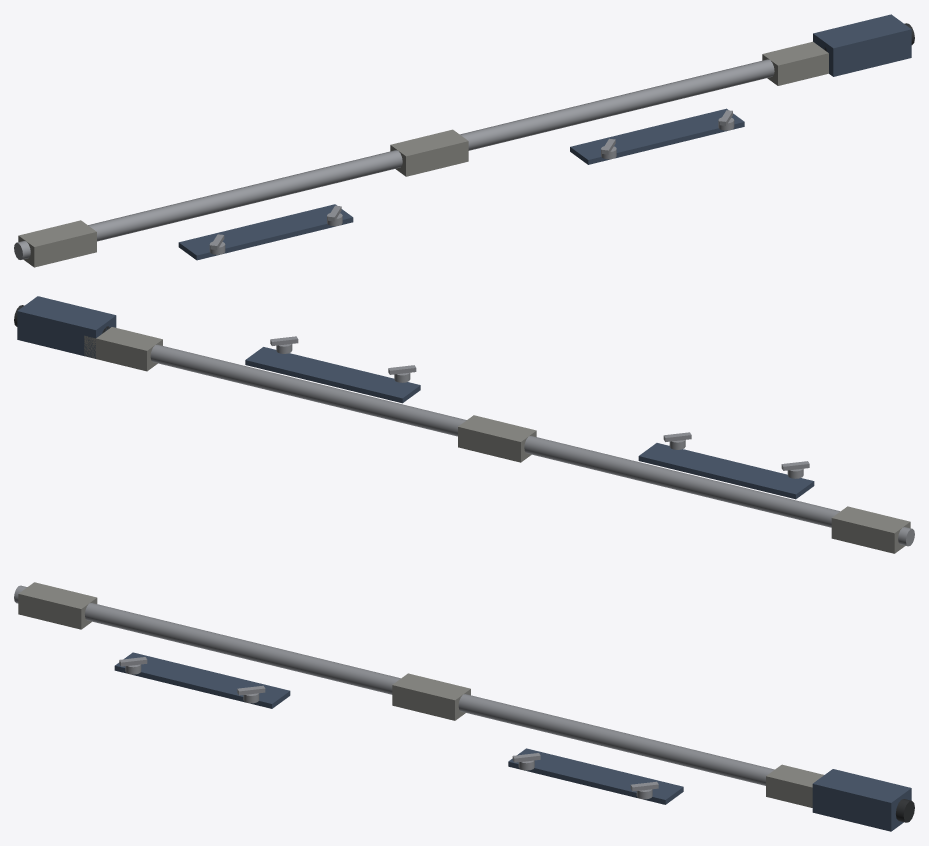
The model's file is rs50s_hinge.obj.
3 renders of one model, top to bottom at view 1: azimuth 30°, elevation 25°; view 2: azimuth 150°, elevation 25°; view 3: azimuth 330°, elevation 25°, orthographic.
Parts seen in each view (by area): view 1: rs50s_hinge; view 2: rs50s_hinge; view 3: rs50s_hinge.
Boxes of the visible parts, x1,y1,x2,y2 form: rs50s_hinge: (14, 14, 914, 267); rs50s_hinge: (14, 296, 914, 553); rs50s_hinge: (14, 582, 914, 831).
Size of the model in its own units: 4.54 by 0.14 by 0.498.
